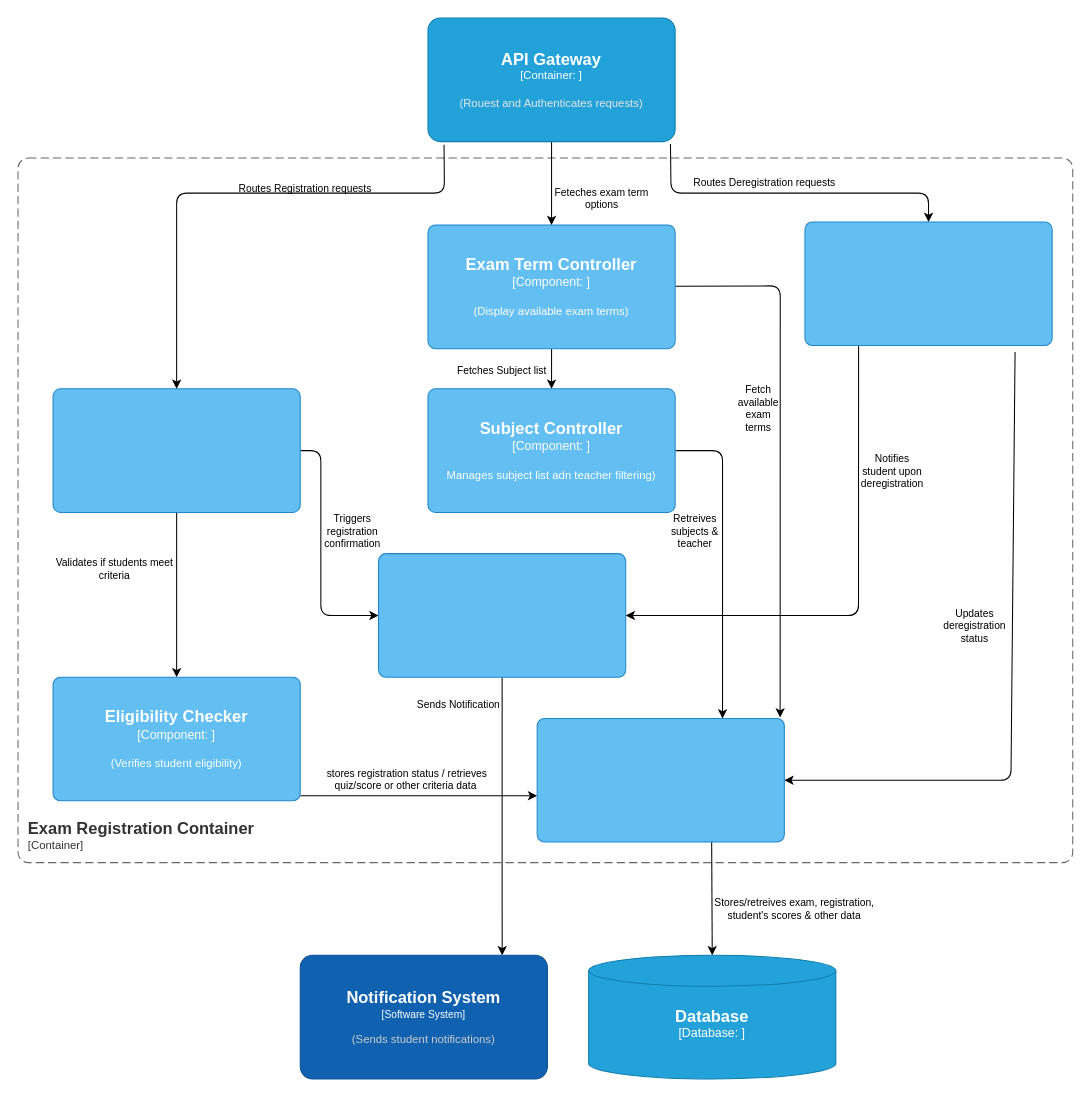
Image size: 1091x1097. Some labels were removed from this diagram. The shapes that lost their labels are listed below. From the top down, each one's centre as x and y in pixels, then its label:
At pixel 928 283: "Deregistration Controller [Component: ] (Handles exam deregistration requests".
At pixel 176 450: "Registration Controller [Component: ] (Handle registration request)".
At pixel 501 615: "Notification Manager [Component: ] (Sends notification to students)".
At pixel 660 779: "Data Access Layer(DAL) [Component: ] (Database interface)".
